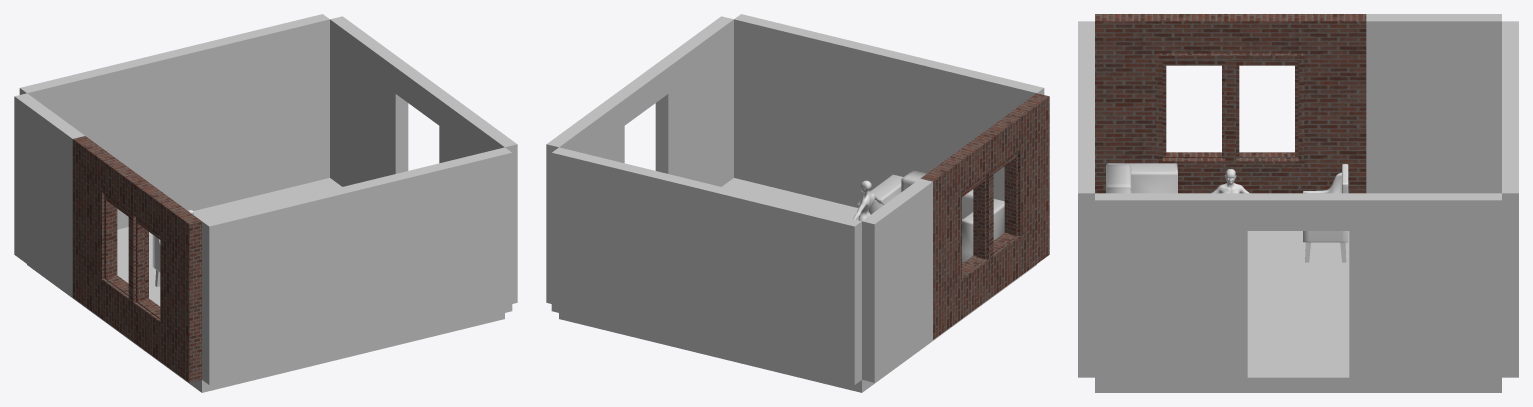
The model's file is therapistOffice.fbx.
3 renders of one model, left to right at view 1: azimuth 30°, elevation 25°; view 2: azimuth 150°, elevation 25°; view 3: azimuth 270°, elevation 25°, orthographic. The views are drawn at different scales.
Parts seen in each view (by area): view 1: Wall_proxy.001, Wall_proxy.002, WallWithWindowDetailed_proxy.001, Square_proxy.003, Square_proxy.006, WallWithDoor_proxy.001, Square_proxy.002, Square_proxy.004, Square_proxy.005, Square_proxy.009, Square_proxy.001, Square_proxy.008 (+7 smaller); view 2: Wall_proxy.002, Wall_proxy.001, WallWithWindowDetailed_proxy.001, Square_proxy.006, Square_proxy.003, WallWithDoor_proxy.001, Square_proxy.002, Square_proxy.005, Square_proxy.004, Square_proxy.001, Square_proxy.008, Sofa (+7 smaller); view 3: WallWithDoor_proxy.001, WallWithWindowDetailed_proxy.001, Square_proxy.002, Square_proxy.009, Square_proxy.008, Square_proxy.018, Square_proxy.001, Square_proxy.015, Square_proxy.010, Square_proxy.007, Square_proxy.006, Square_proxy.003 (+10 smaller).
Boxes of the visible parts, <box> form: Wall_proxy.001: <box>202,172,411,384</box>; Wall_proxy.002: <box>19,38,228,229</box>; WallWithWindowDetailed_proxy.001: <box>72,136,201,382</box>; Square_proxy.003: <box>404,147,512,282</box>; Square_proxy.006: <box>222,14,329,149</box>; WallWithDoor_proxy.001: <box>359,37,487,182</box>; Square_proxy.002: <box>14,93,84,244</box>; Square_proxy.004: <box>411,258,512,335</box>; Square_proxy.005: <box>229,125,329,202</box>; Square_proxy.009: <box>330,16,371,145</box>; Square_proxy.001: <box>14,202,72,296</box>; Square_proxy.008: <box>475,123,517,250</box>; Wall_proxy.002: <box>652,172,861,384</box>; Wall_proxy.001: <box>835,38,1044,207</box>; WallWithWindowDetailed_proxy.001: <box>920,93,1049,339</box>; Square_proxy.006: <box>551,147,659,282</box>; Square_proxy.003: <box>734,14,841,149</box>; WallWithDoor_proxy.001: <box>576,37,704,182</box>; Square_proxy.002: <box>862,178,932,329</box>; Square_proxy.005: <box>551,258,652,335</box>; Square_proxy.004: <box>734,125,834,202</box>; Square_proxy.001: <box>862,287,932,382</box>; Square_proxy.008: <box>692,16,733,145</box>; Sofa: <box>862,170,1004,263</box>; WallWithDoor_proxy.001: <box>1162,193,1434,384</box>; WallWithWindowDetailed_proxy.001: <box>1095,14,1366,193</box>; Square_proxy.002: <box>1366,14,1501,143</box>; Square_proxy.009: <box>1434,193,1501,323</box>; Square_proxy.008: <box>1095,193,1162,323</box>; Square_proxy.018: <box>1230,320,1366,392</box>; Square_proxy.001: <box>1366,144,1501,193</box>; Square_proxy.015: <box>1247,263,1349,320</box>; Square_proxy.010: <box>1434,323,1501,384</box>; Square_proxy.007: <box>1095,323,1162,384</box>; Square_proxy.006: <box>1502,136,1518,315</box>; Square_proxy.003: <box>1078,136,1094,315</box>.
Size of the model in its own units: 650 by 325 by 650.
